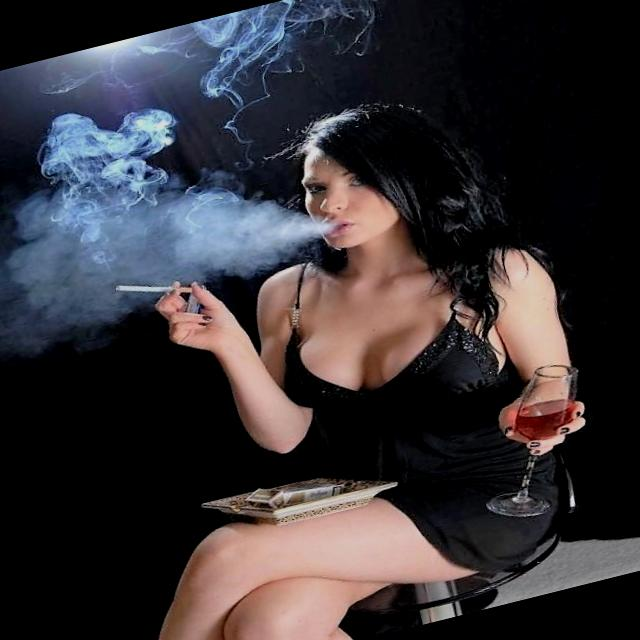smoke: (110, 262, 208, 316)
